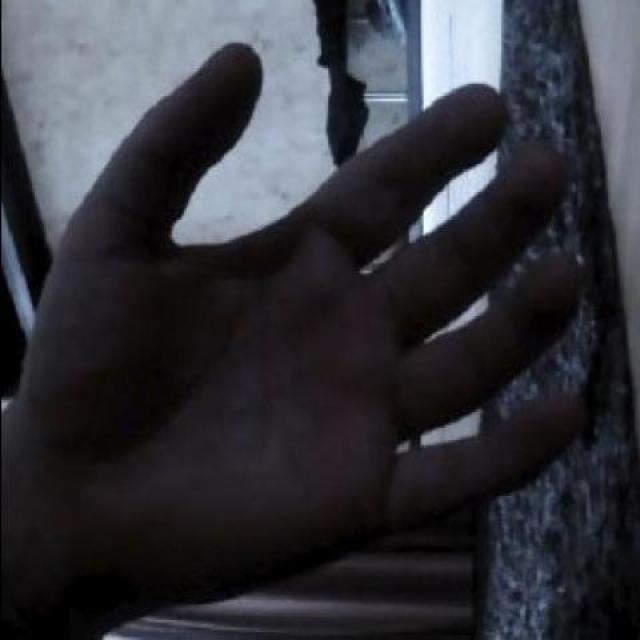Open Hand: (28, 40, 584, 590)
